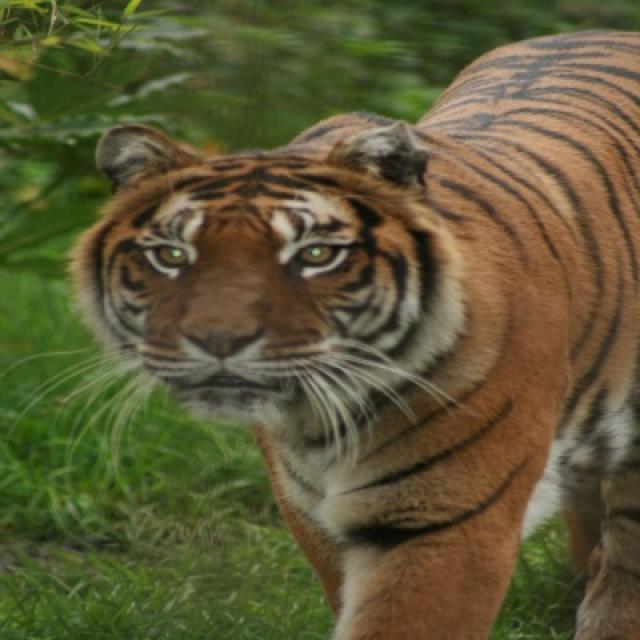Tiger: (76, 34, 638, 633)
